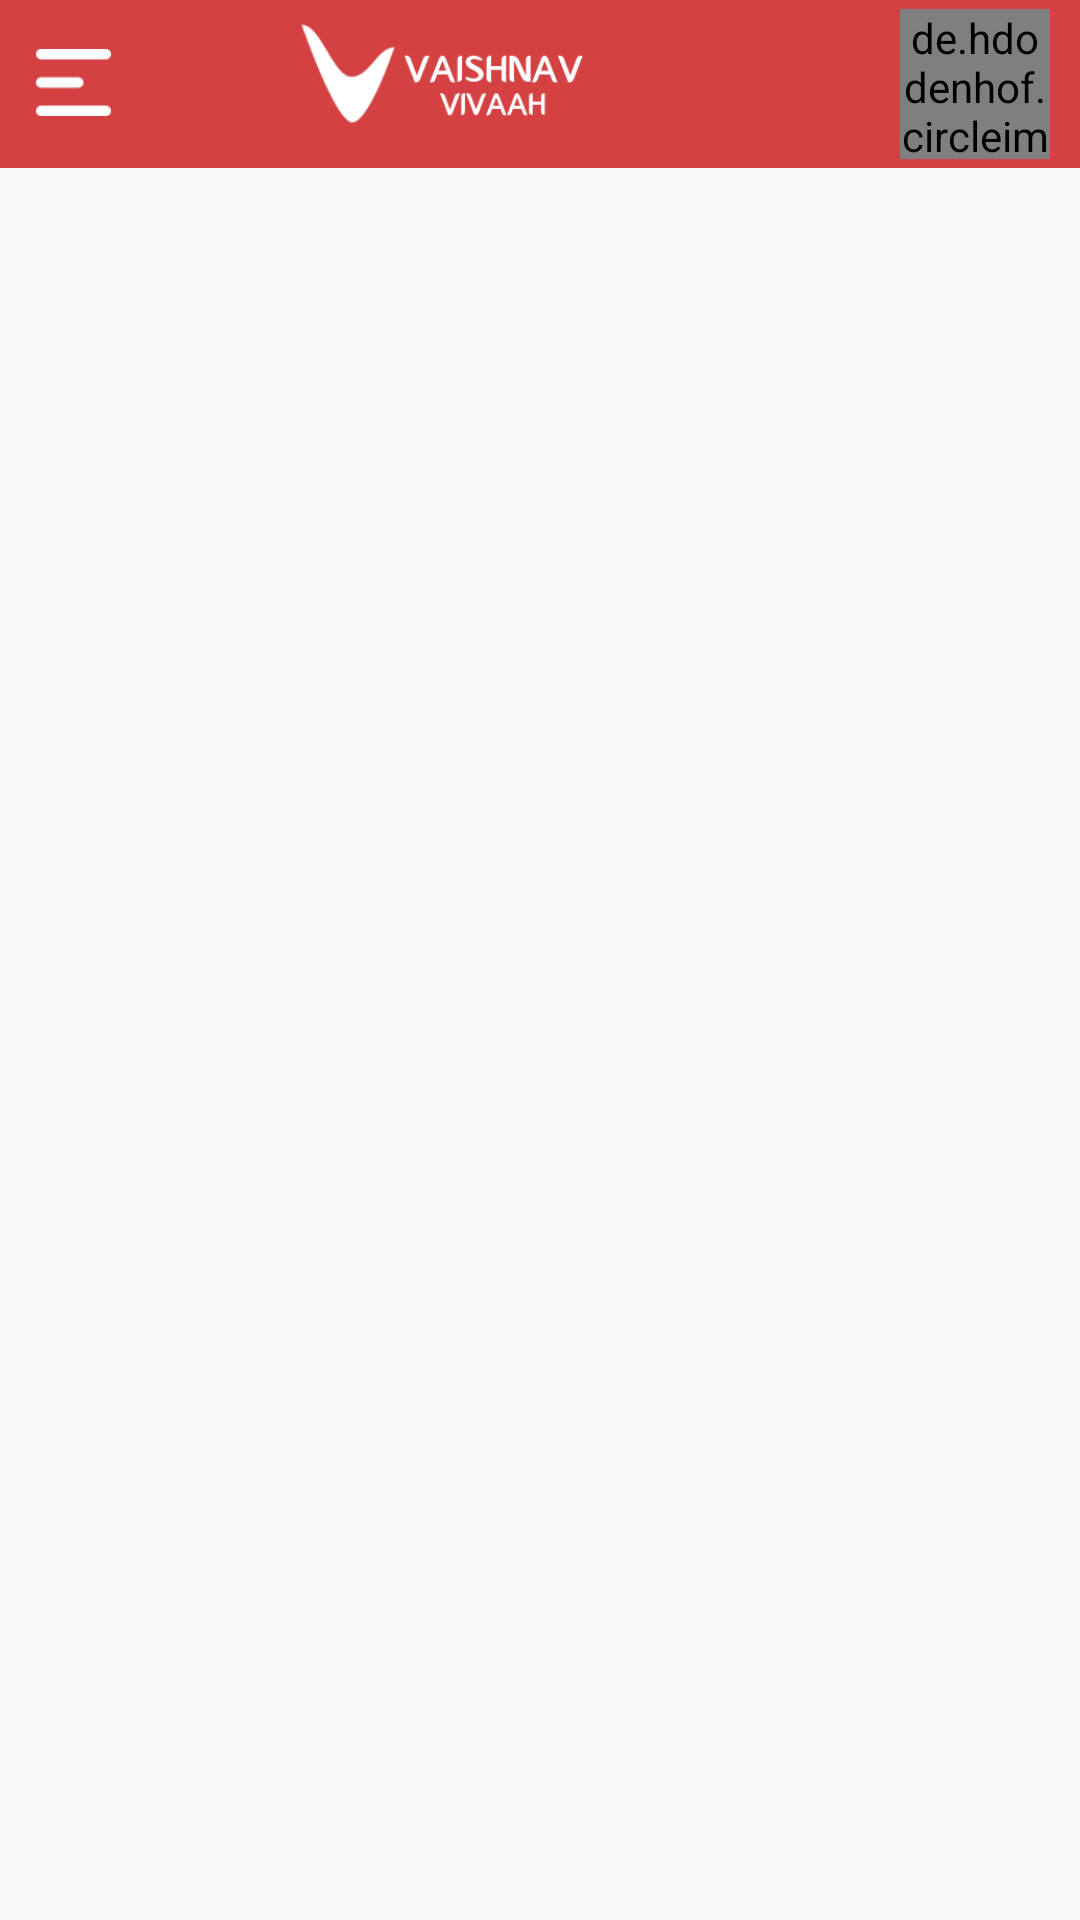

Icons on this 1080px x 1920px Android screen, each with its box as bbox(x1, y1, x2, y2):
menuicontoolbar: bbox(36, 49, 111, 116)
